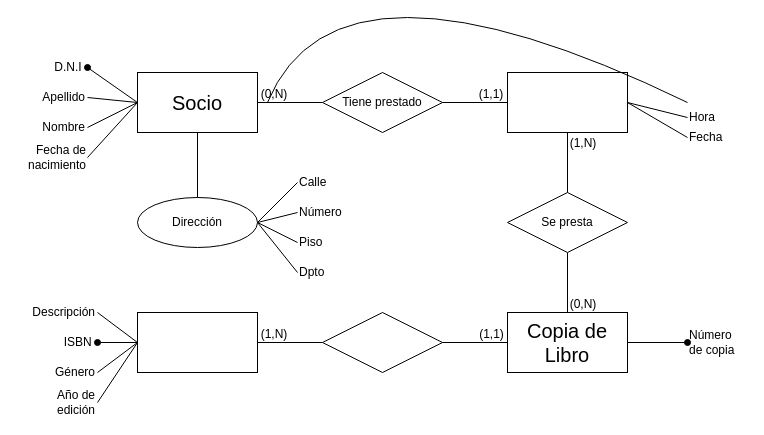
Some shapes in this 764 by 435 pixel diagram are drawn without their labels. The centre of each missing label's shape, as x and y in pixels:
"Es copia de" goes at point (382, 342).
"Libro" goes at point (197, 342).
"Préstamo" goes at point (567, 102).
